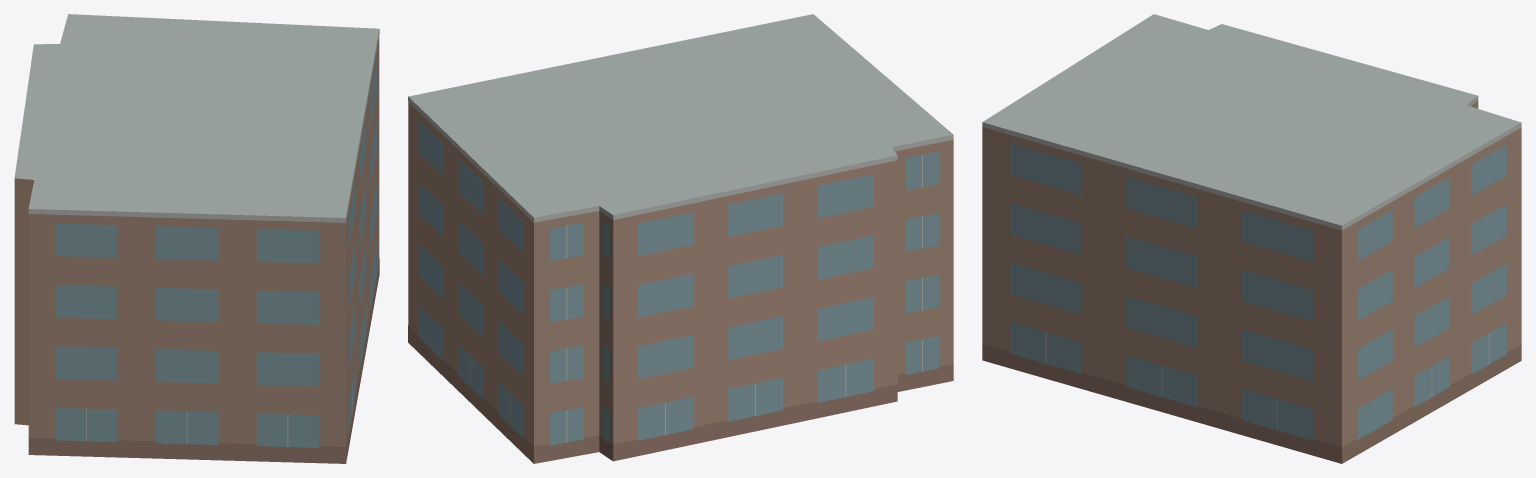
Rendered from survey-upis-32942912.glb.
3 views of the same model, side by side, from view 1: azimuth 30°, elevation 25°; view 2: azimuth 150°, elevation 25°; view 3: azimuth 270°, elevation 25° (orthographic). The views are drawn at different scales.
Visible parts, largest first — view 1: survey-upis-32942912.tmp; view 2: survey-upis-32942912.tmp; view 3: survey-upis-32942912.tmp.
Boxes of the visible parts, box(x1,y1,x2,y2) form: survey-upis-32942912.tmp: box(14, 14, 379, 463); survey-upis-32942912.tmp: box(408, 14, 953, 463); survey-upis-32942912.tmp: box(982, 14, 1521, 463).
Size of the model in its own units: 23.27 by 12.2 by 25.05.
